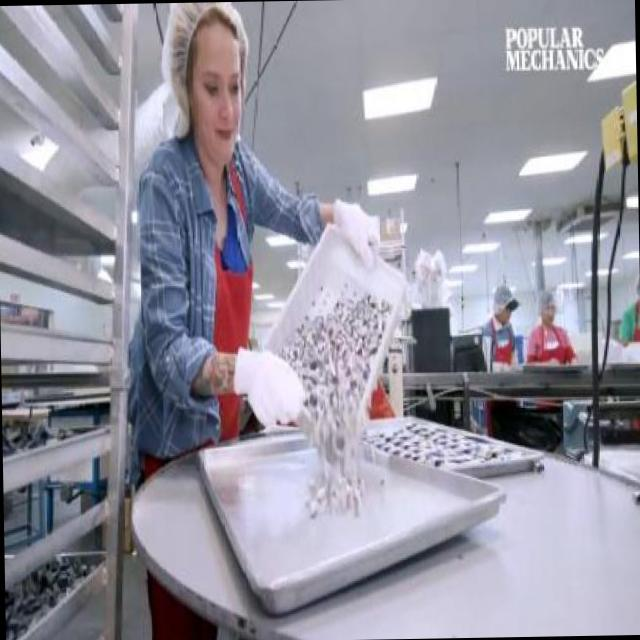hairnet: (158, 1, 248, 67), (493, 282, 512, 311), (535, 290, 555, 312)
